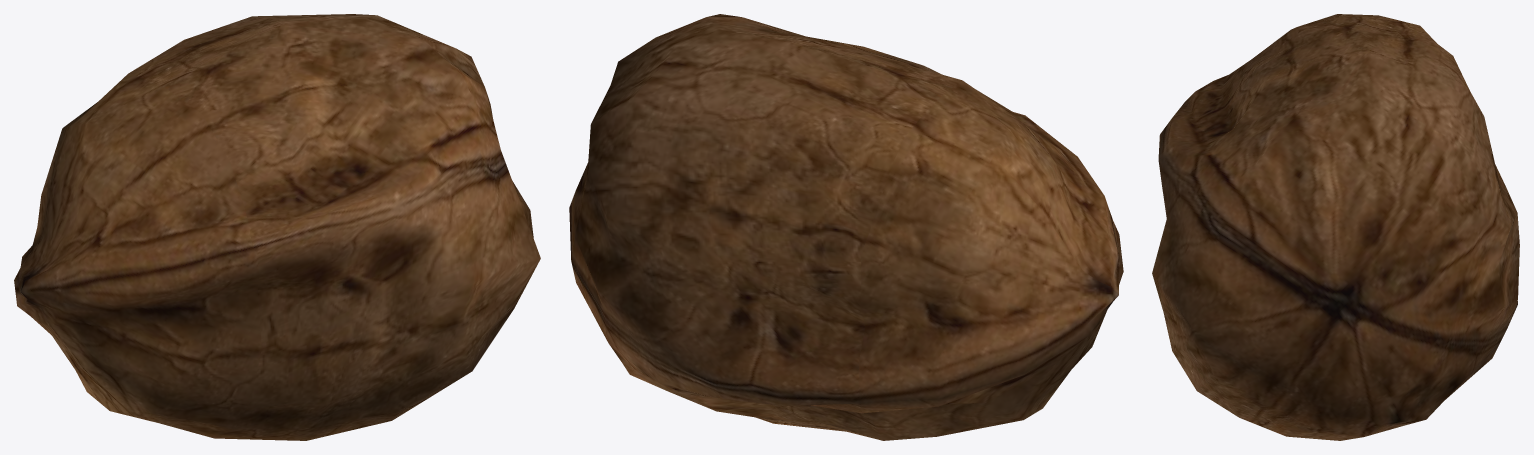
File: A78_Walnut_low.fbx
3 views of the same model, side by side, from view 1: azimuth 30°, elevation 25°; view 2: azimuth 150°, elevation 25°; view 3: azimuth 270°, elevation 25° (orthographic). The views are drawn at different scales.
Parts seen in each view (by area): view 1: A78_Walnut_low; view 2: A78_Walnut_low; view 3: A78_Walnut_low.
Part boxes in pixels (left/top/right/bottom): A78_Walnut_low: left=14, top=14, right=540, bottom=440; A78_Walnut_low: left=569, top=14, right=1123, bottom=440; A78_Walnut_low: left=1152, top=14, right=1519, bottom=440.
Size of the model in its own units: 1.98 by 1.35 by 1.45.
1 material, 1 textured.
